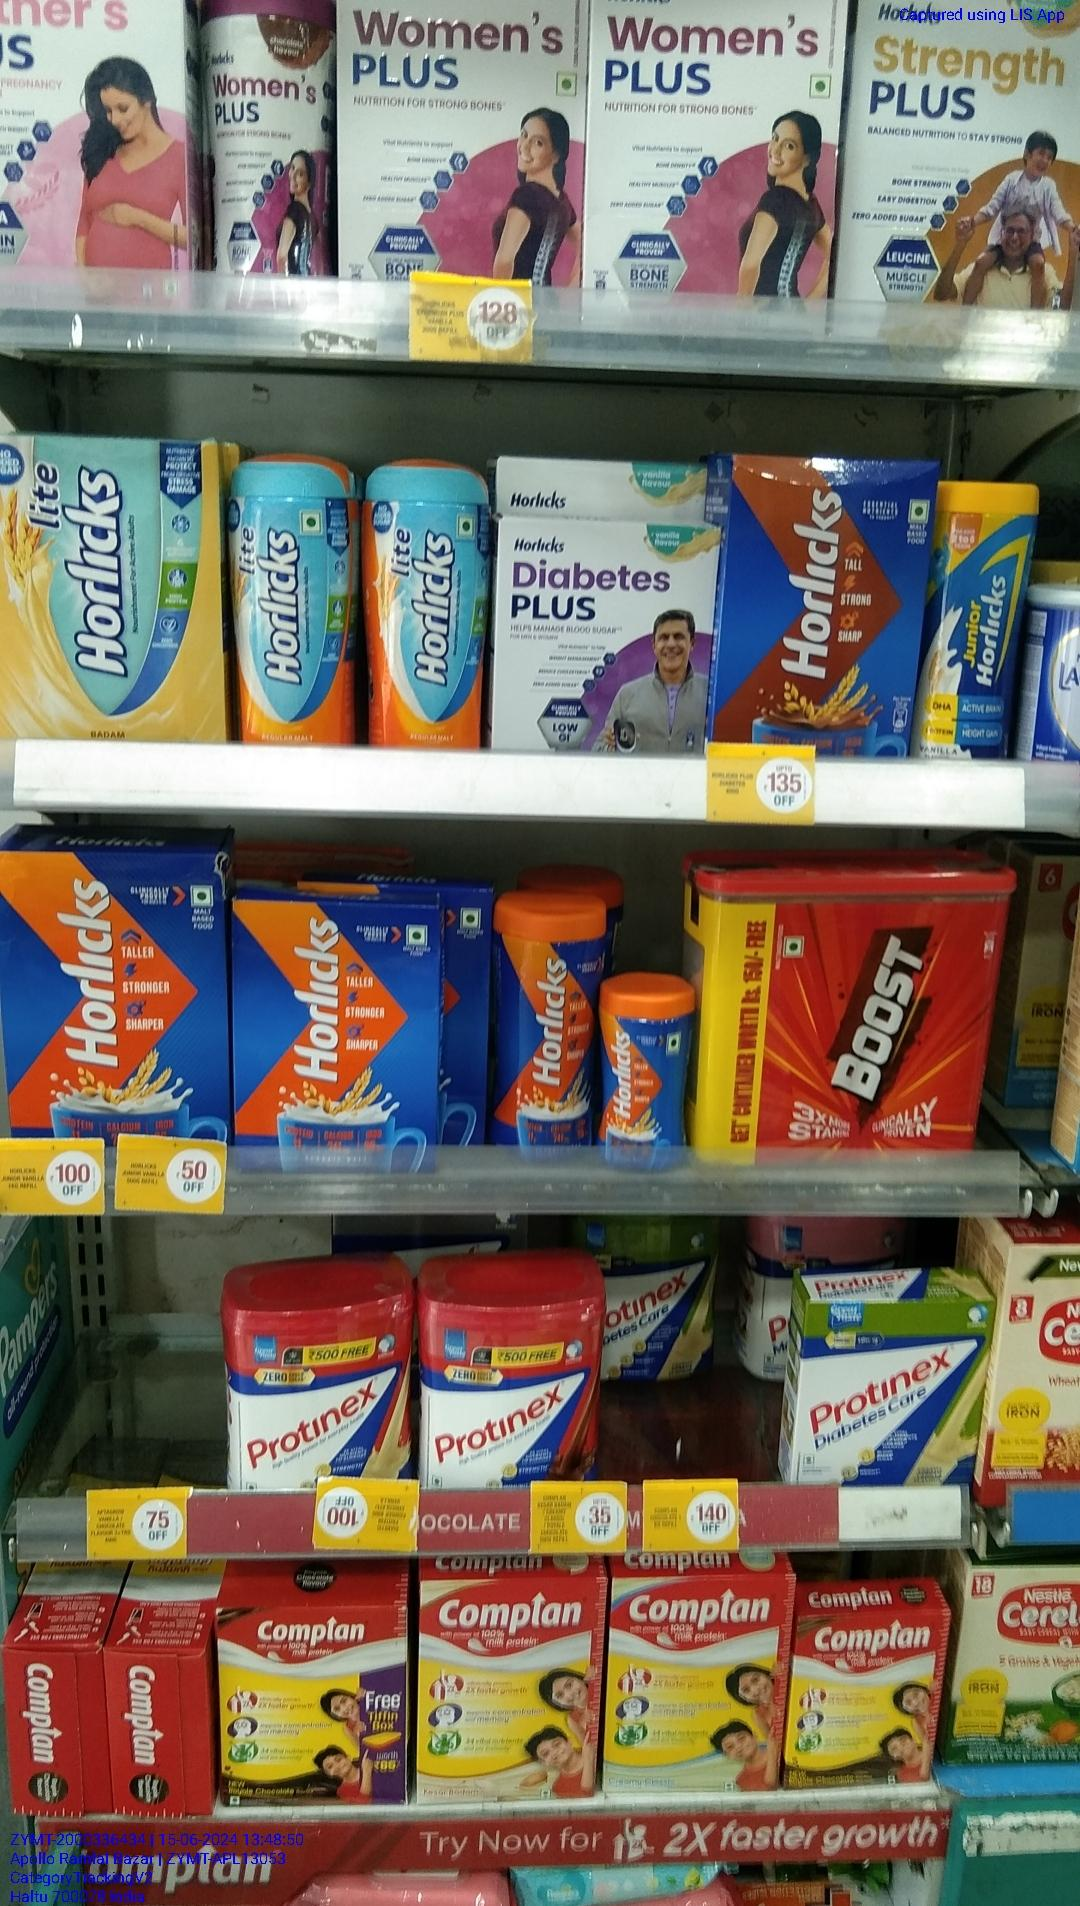COMPLAN_CHOCOLATE_500_GMS_PACK: (217, 1606, 401, 1805), (783, 1614, 945, 1789)
COMPLAN_CREAMY_CLASSIC_500_G_PACK: (419, 1577, 593, 1803), (606, 1577, 774, 1789)
HORLICKS_JUNIOR_VANILLA_500_GM_JAR: (926, 479, 1032, 763)
HORLICKS_LITE_REGULAR_MALT_500_GM_JAR: (226, 456, 355, 742), (361, 462, 486, 749)
